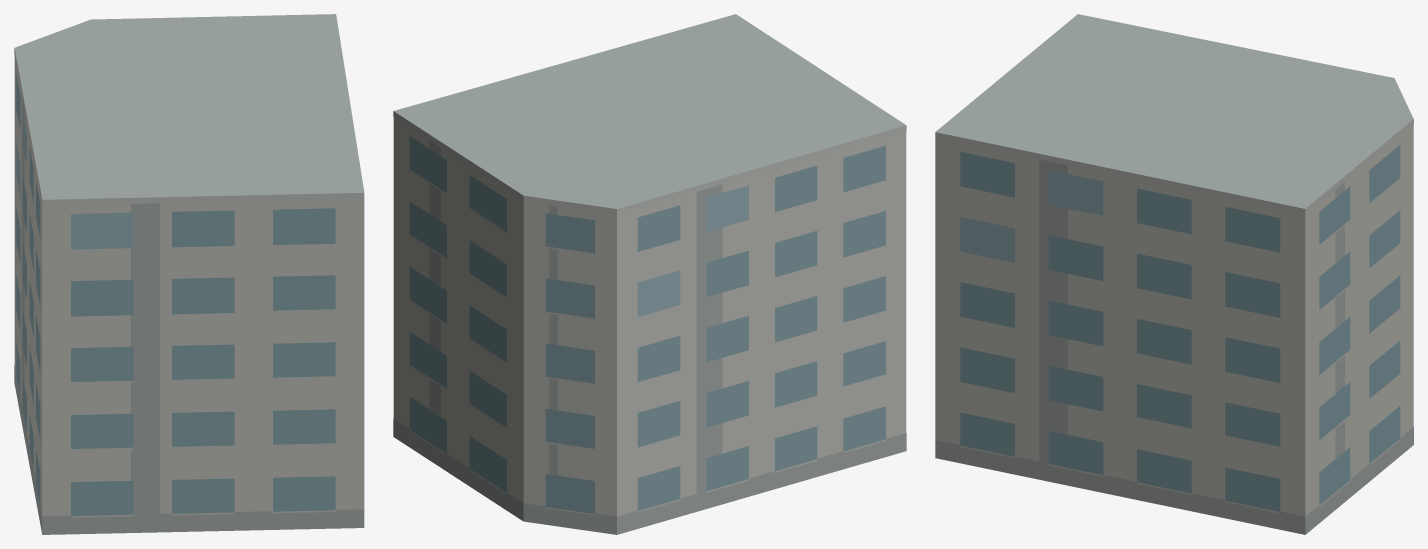
The model's file is survey-upis-32733055.glb.
3 renders of one model, left to right at view 1: azimuth 30°, elevation 25°; view 2: azimuth 150°, elevation 25°; view 3: azimuth 270°, elevation 25°, orthographic. The views are drawn at different scales.
Visible parts, largest first — view 1: survey-upis-32733055.tmp; view 2: survey-upis-32733055.tmp; view 3: survey-upis-32733055.tmp.
Boxes of the visible parts, x1=… form: survey-upis-32733055.tmp: x1=14, y1=14, x2=364, y2=534; survey-upis-32733055.tmp: x1=393, y1=14, x2=906, y2=534; survey-upis-32733055.tmp: x1=935, y1=14, x2=1413, y2=534.
Size of the model in its own units: 17.58 by 13.7 by 18.24.
